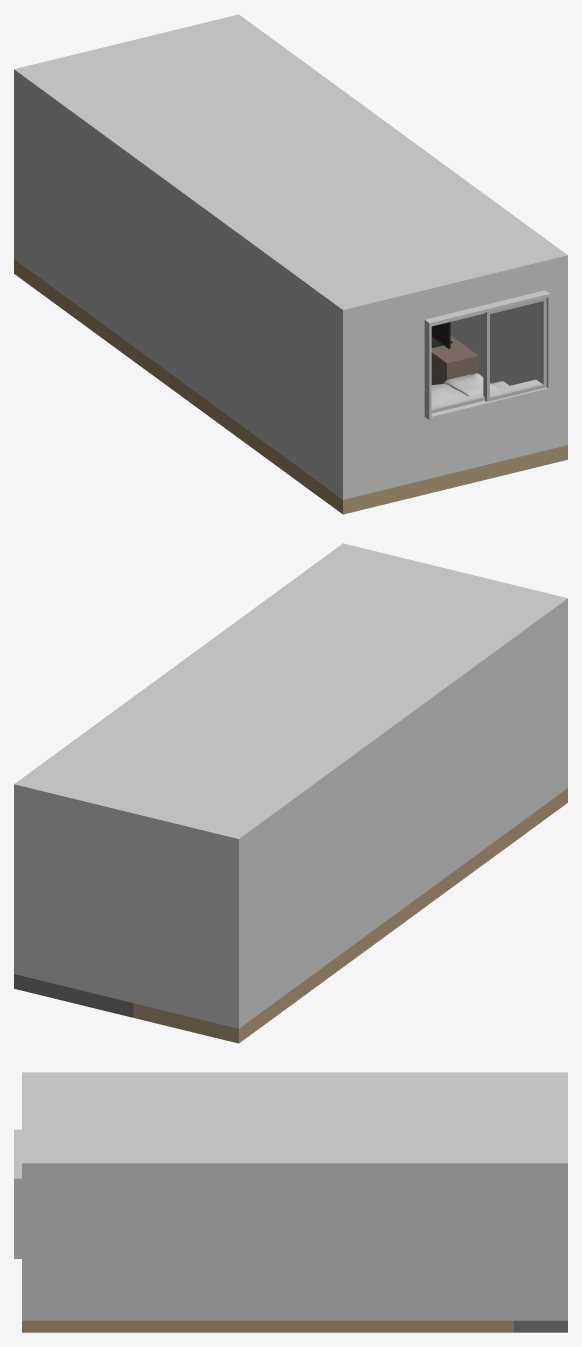
Rendered from room_assemble.glb.
The picture shows the model from 3 angles, top to bottom: view 1: azimuth 30°, elevation 25°; view 2: azimuth 150°, elevation 25°; view 3: azimuth 270°, elevation 25°; orthographic projection. The views are drawn at different scales.
Parts seen in each view (by area): view 1: オブジェクト_23, オブジェクト_54, オブジェクト_193, オブジェクト_186, オブジェクト_189, オブジェクト_16, オブジェクト_175, オブジェクト_12; view 2: オブジェクト_23, オブジェクト_54, オブジェクト_172, オブジェクト_193, オブジェクト_186, オブジェクト_194, オブジェクト_180; view 3: オブジェクト_23, オブジェクト_54, オブジェクト_193, オブジェクト_186, オブジェクト_189, オブジェクト_194.
Boxes of the visible parts, box(x1,y1,x2,y2) form: オブジェクト_23: box(14, 84, 567, 499); オブジェクト_54: box(14, 14, 567, 324); オブジェクト_193: box(14, 259, 567, 514); オブジェクト_186: box(36, 50, 186, 118); オブジェクト_189: box(424, 290, 550, 420); オブジェクト_16: box(431, 335, 478, 384); オブジェクト_175: box(485, 297, 546, 401); オブジェクト_12: box(431, 373, 498, 404); オブジェクト_23: box(14, 613, 567, 1028); オブジェクト_54: box(14, 543, 567, 853); オブジェクト_172: box(79, 844, 131, 1002); オブジェクト_193: box(133, 788, 567, 1043); オブジェクト_186: box(146, 761, 297, 829); オブジェクト_194: box(14, 974, 133, 1017); オブジェクト_180: box(77, 841, 133, 1002); オブジェクト_23: box(22, 1175, 567, 1320); オブジェクト_54: box(22, 1072, 567, 1175); オブジェクト_193: box(22, 1320, 513, 1332); オブジェクト_186: box(448, 1077, 554, 1112); オブジェクト_189: box(14, 1129, 21, 1258); オブジェクト_194: box(514, 1320, 567, 1332).
Bounding box in the file's own units: 3.2 × 2.78 × 8.23.
